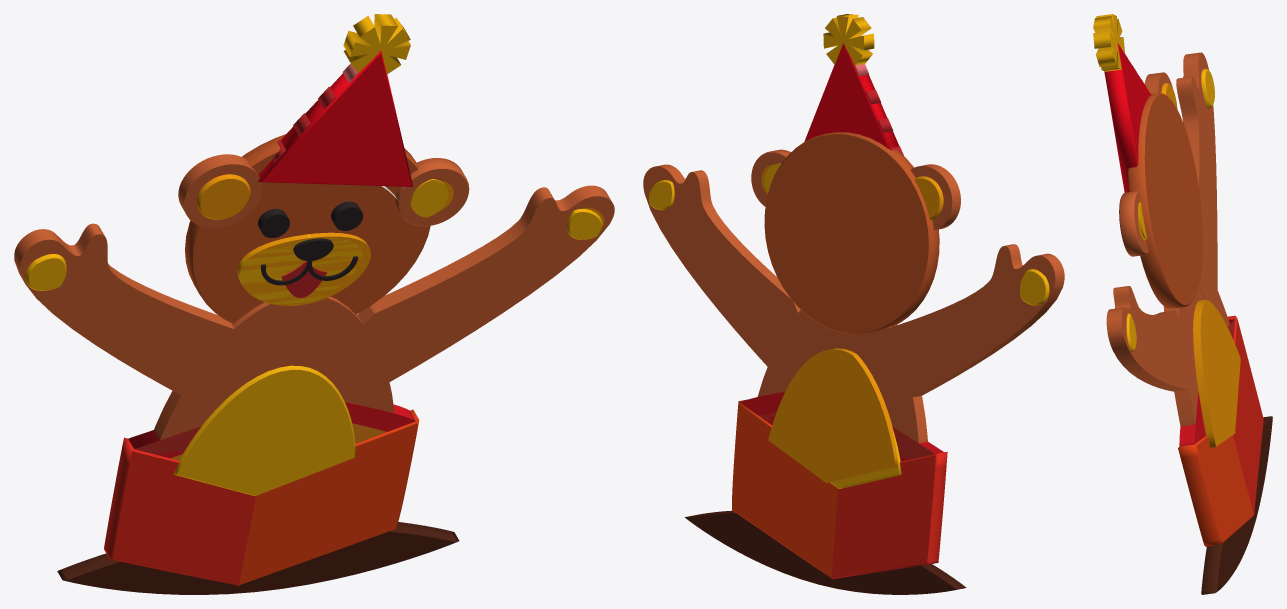
The model's file is oso.glb.
The picture shows the model from 3 angles, left to right: view 1: azimuth 30°, elevation 25°; view 2: azimuth 150°, elevation 25°; view 3: azimuth 270°, elevation 25°; orthographic projection. The views are drawn at different scales.
Parts seen in each view (by area): view 1: Curve.040, Curve.041, Curve.037, Curve.042, Curve.003, Curve.002, Curve.011, Curve.039, Curve, Curve.044, Curve.034, Curve.030 (+9 smaller); view 2: Curve.037, Curve.041, Curve.040, Curve.043, Curve.002, Curve.003, Curve, Curve.039, Curve.011, Curve.030, Curve.034, Curve.001 (+6 smaller); view 3: Curve.037, Curve.040, Curve.003, Curve.041, Curve.043, Curve.011, Curve.002, Curve, Curve.039, Curve.030, Curve.031, Curve.001 (+3 smaller).
Part boxes in pixels (x1=…): Curve.040: x1=345, y1=185, x2=614, y2=393; Curve.041: x1=14, y1=223, x2=253, y2=410; Curve.037: x1=185, y1=134, x2=430, y2=323; Curve.042: x1=173, y1=365, x2=356, y2=495; Curve.003: x1=236, y1=409, x2=419, y2=585; Curve.002: x1=104, y1=437, x2=256, y2=585; Curve.011: x1=257, y1=50, x2=413, y2=186; Curve.039: x1=154, y1=296, x2=394, y2=440; Curve: x1=57, y1=522, x2=459, y2=594; Curve.044: x1=237, y1=232, x2=370, y2=305; Curve.034: x1=178, y1=154, x2=262, y2=228; Curve.030: x1=343, y1=14, x2=410, y2=74; Curve.037: x1=764, y1=132, x2=939, y2=333; Curve.041: x1=869, y1=244, x2=1064, y2=409; Curve.040: x1=643, y1=164, x2=806, y2=379; Curve.043: x1=768, y1=348, x2=898, y2=482; Curve.002: x1=831, y1=451, x2=947, y2=579; Curve.003: x1=732, y1=399, x2=837, y2=579; Curve: x1=685, y1=510, x2=966, y2=594; Curve.039: x1=757, y1=310, x2=927, y2=443; Curve.011: x1=804, y1=43, x2=898, y2=149; Curve.030: x1=823, y1=14, x2=874, y2=65; Curve.034: x1=910, y1=164, x2=960, y2=230; Curve.001: x1=741, y1=392, x2=943, y2=461; Curve.037: x1=1128, y1=93, x2=1202, y2=308; Curve.040: x1=1106, y1=286, x2=1194, y2=391; Curve.003: x1=1178, y1=435, x2=1253, y2=546; Curve.041: x1=1176, y1=52, x2=1217, y2=308; Curve.043: x1=1193, y1=299, x2=1240, y2=447; Curve.011: x1=1104, y1=43, x2=1150, y2=192; Curve.002: x1=1227, y1=315, x2=1263, y2=516; Curve: x1=1201, y1=416, x2=1272, y2=594; Curve.039: x1=1163, y1=284, x2=1229, y2=426; Curve.030: x1=1093, y1=14, x2=1124, y2=71; Curve.031: x1=1119, y1=191, x2=1148, y2=256; Curve.001: x1=1179, y1=319, x2=1234, y2=446.
Bounding box in the file's own units: 22.28 × 24.11 × 7.27.
